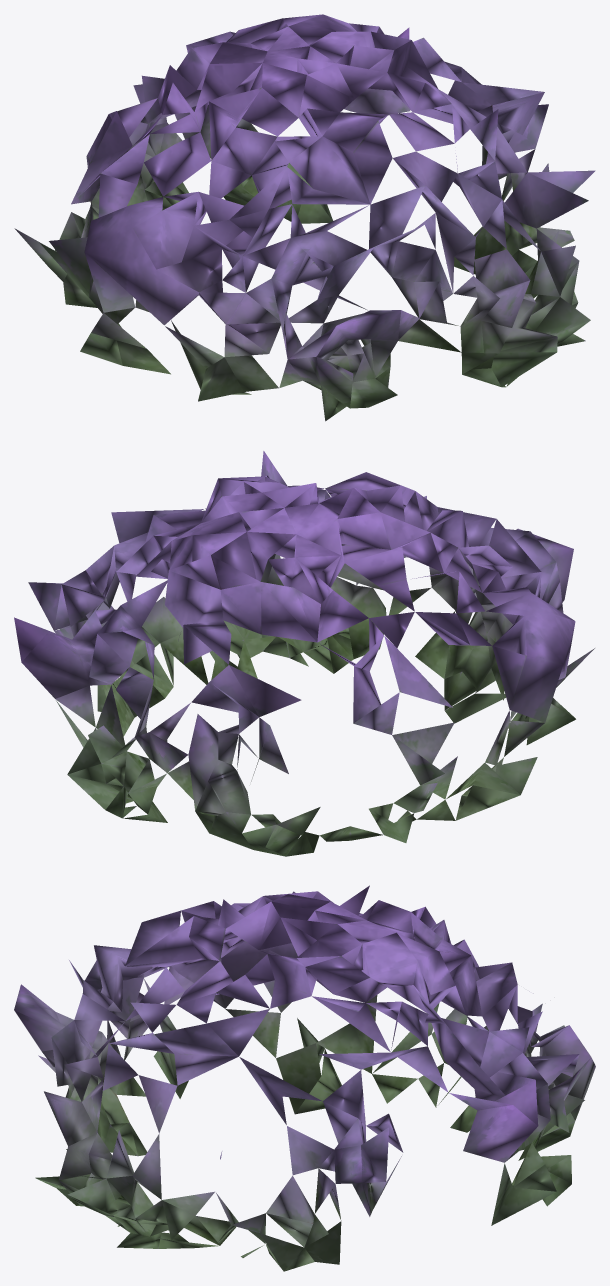
File: lavender.glb
3 renders of one model, top to bottom at view 1: azimuth 30°, elevation 25°; view 2: azimuth 150°, elevation 25°; view 3: azimuth 270°, elevation 25°, orthographic. The views are drawn at different scales.
Parts seen in each view (by area): view 1: Prop; view 2: Prop; view 3: Prop.
Boxes of the visible parts, <box> form: Prop: <box>14,14,595,421</box>; Prop: <box>14,451,594,856</box>; Prop: <box>14,885,595,1271</box>.
Size of the model in its own units: 1.52 by 0.8 by 1.55.
1 material, 1 textured.
